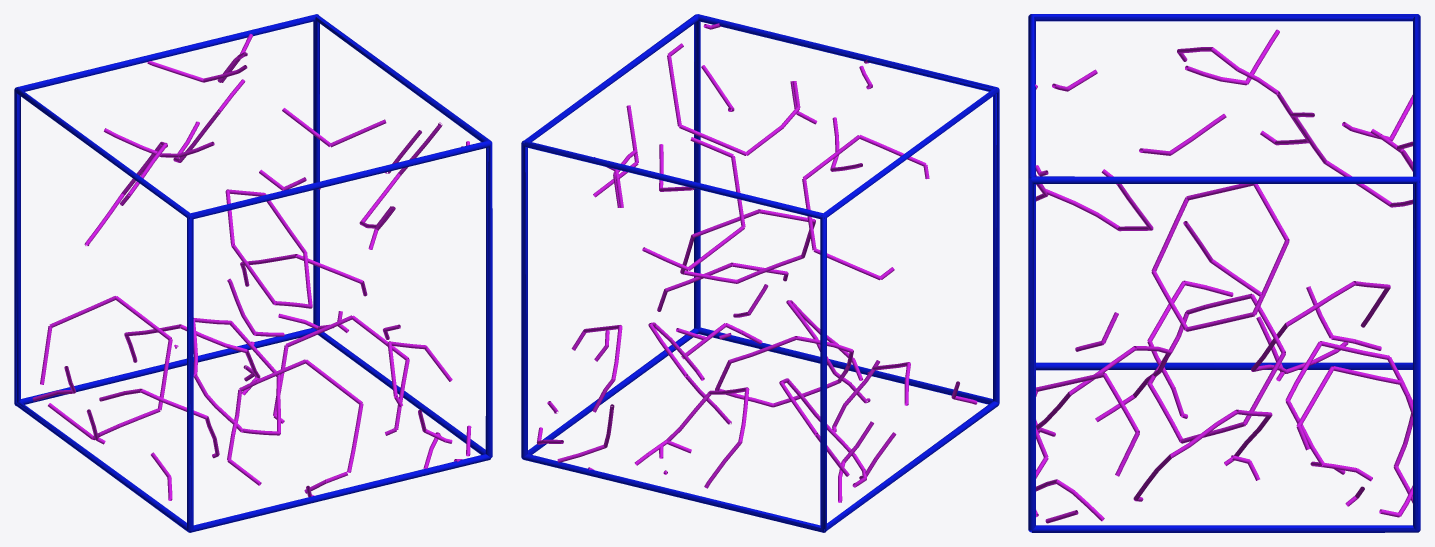
File: dislocation100.glb
The picture shows the model from 3 angles, left to right: view 1: azimuth 30°, elevation 25°; view 2: azimuth 150°, elevation 25°; view 3: azimuth 270°, elevation 25°; orthographic projection. The views are drawn at different scales.
Visible parts, largest first — view 1: Shape_IndexedLineSet, Shape_IndexedLineSet.001; view 2: Shape_IndexedLineSet, Shape_IndexedLineSet.001; view 3: Shape_IndexedLineSet.001, Shape_IndexedLineSet.
Boxes of the visible parts, box(x1,y1,x2,y2) form: Shape_IndexedLineSet: box(14, 14, 492, 532); Shape_IndexedLineSet.001: box(32, 34, 471, 500); Shape_IndexedLineSet: box(521, 14, 999, 532); Shape_IndexedLineSet.001: box(536, 23, 977, 502); Shape_IndexedLineSet.001: box(1035, 29, 1413, 523); Shape_IndexedLineSet: box(1028, 14, 1420, 532).
Size of the model in its own units: 1.02 by 1.02 by 1.02.
